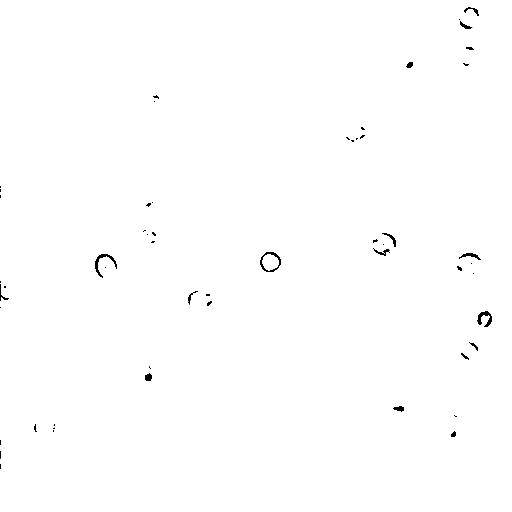micro-algae: (284, 132, 392, 238), (7, 283, 57, 335), (159, 197, 208, 238), (167, 474, 213, 512), (131, 185, 167, 224), (70, 397, 107, 429), (382, 392, 417, 423), (145, 344, 178, 376), (315, 291, 354, 317), (133, 360, 162, 392), (433, 417, 464, 446), (394, 50, 423, 79), (32, 409, 57, 442), (458, 44, 487, 70), (93, 252, 119, 281), (0, 440, 25, 470), (122, 8, 152, 32), (186, 287, 214, 312), (454, 251, 484, 274), (372, 231, 398, 257), (457, 5, 482, 31), (408, 312, 432, 337), (335, 367, 363, 388), (259, 249, 282, 274), (344, 120, 367, 143), (457, 340, 482, 360), (0, 276, 16, 301), (136, 228, 158, 246), (475, 309, 495, 328), (417, 0, 437, 8), (507, 120, 512, 140), (153, 0, 169, 3)
